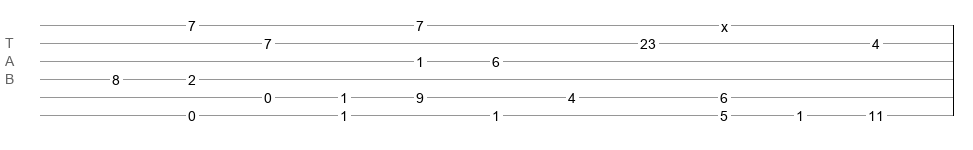0: (188, 108, 196, 118), (264, 90, 272, 100)
1: (340, 108, 348, 118), (340, 90, 348, 100), (416, 54, 424, 64), (492, 108, 500, 118), (796, 108, 804, 118)
11: (868, 108, 884, 118)
2: (188, 72, 196, 82)
23: (640, 36, 656, 46)
4: (568, 90, 576, 100), (872, 36, 880, 46)
5: (720, 108, 728, 118)
6: (492, 54, 500, 64), (720, 90, 728, 100)
7: (188, 18, 196, 28), (264, 36, 272, 46), (416, 18, 424, 28)
8: (112, 72, 120, 82)
9: (416, 90, 424, 100)
x: (721, 19, 728, 27)
